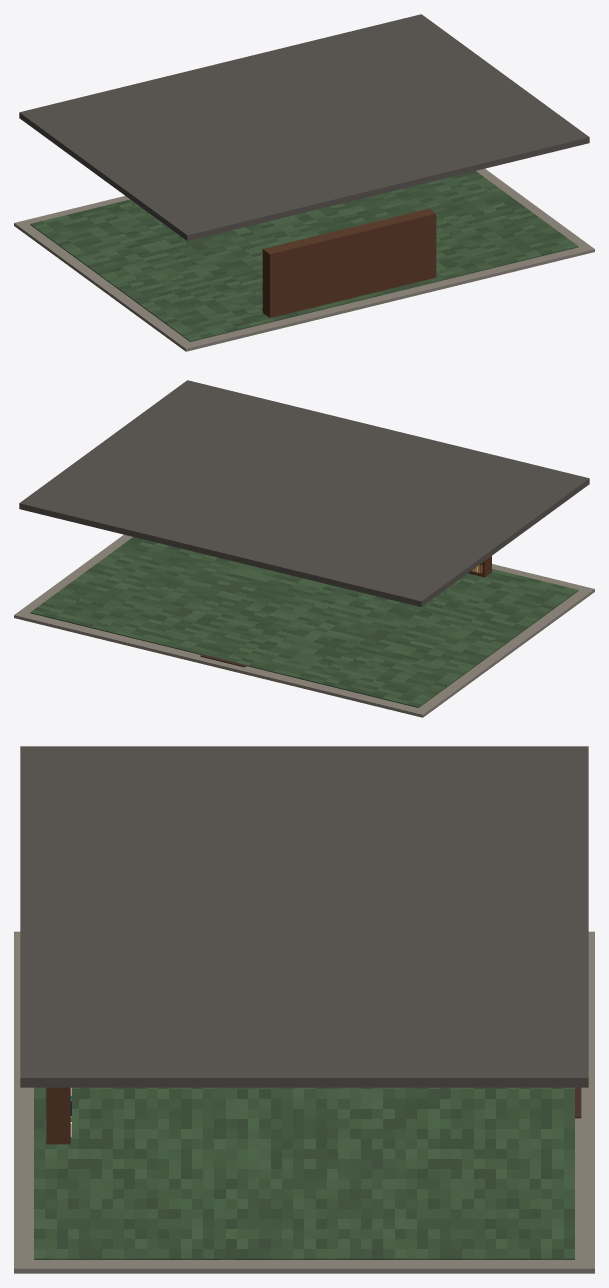
Rendered from structure.glb.
The picture shows the model from 3 angles, top to bottom: view 1: azimuth 30°, elevation 25°; view 2: azimuth 150°, elevation 25°; view 3: azimuth 270°, elevation 25°; orthographic projection. The views are drawn at different scales.
Parts seen in each view (by area): view 1: Box5, Box2, Box7, Box1; view 2: Box5, Box2, Box1; view 3: Box5, Box2, Box1, Box7.
Part boxes in pixels (box(x1,y1,x2,y2)): Box5: box(19, 14, 589, 240); Box2: box(30, 171, 578, 341); Box7: box(262, 208, 436, 317); Box1: box(14, 168, 594, 351); Box5: box(19, 380, 589, 606); Box2: box(30, 537, 578, 707); Box1: box(14, 534, 594, 717); Box5: box(20, 746, 588, 1087); Box2: box(34, 1087, 574, 1259); Box1: box(14, 931, 594, 1273); Box7: box(46, 1087, 70, 1144).
Size of the model in its own units: 14.74 by 3.93 by 10.74.
15 materials, 1 textured.
